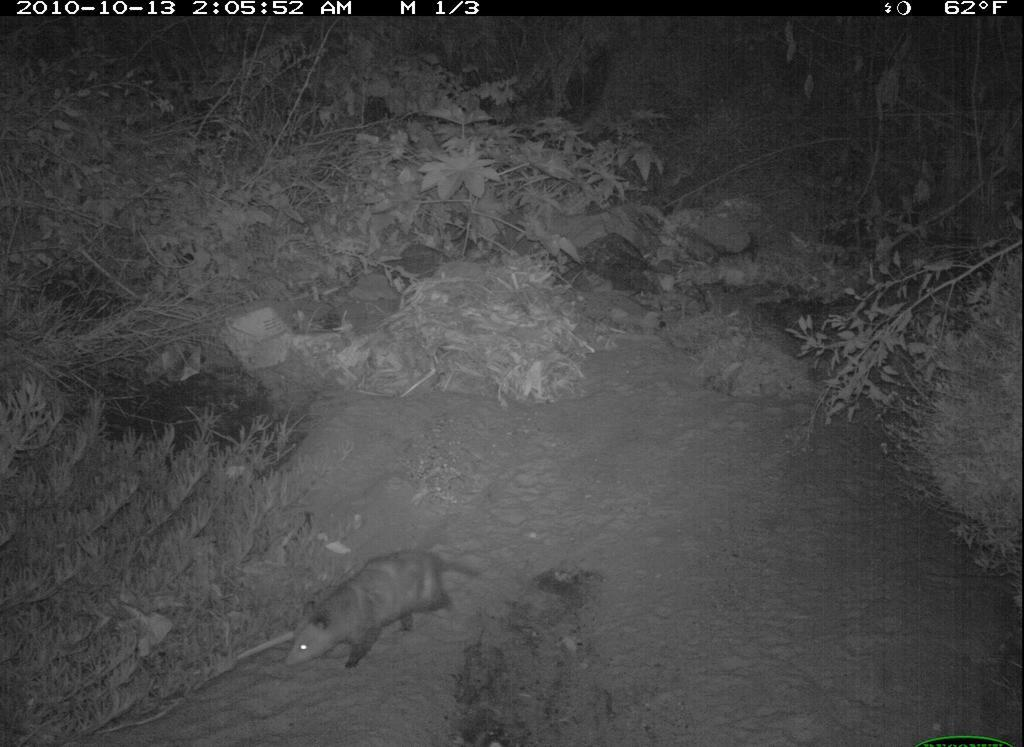opossum: (282, 546, 483, 675)
